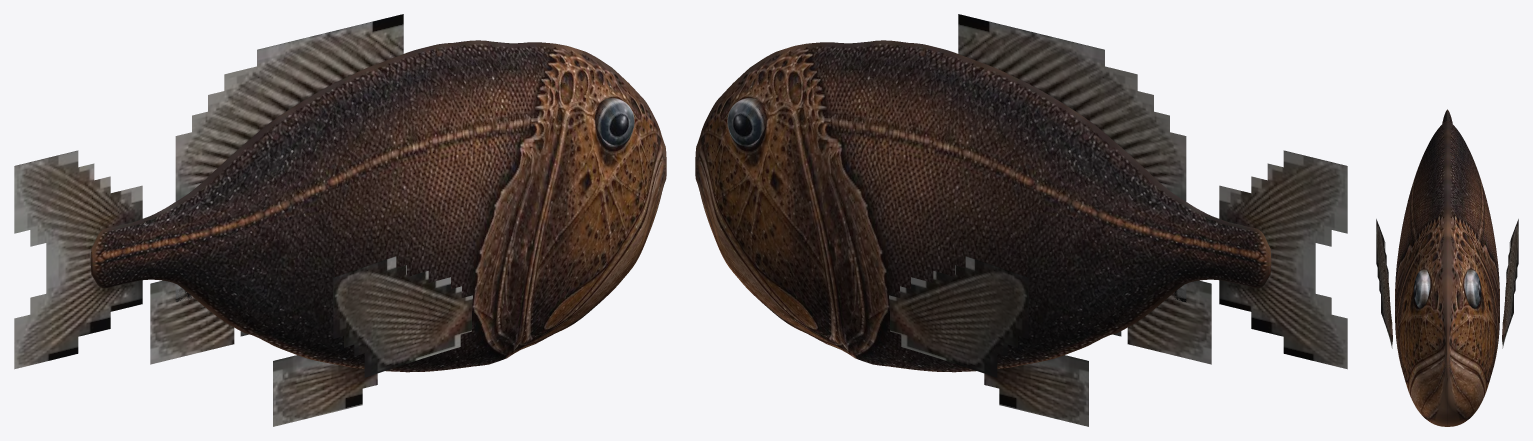
Rendered from real-anoplogaster_cornuta.glb.
The picture shows the model from 3 angles, left to right: view 1: azimuth 30°, elevation 25°; view 2: azimuth 150°, elevation 25°; view 3: azimuth 270°, elevation 25°; orthographic projection. The views are drawn at different scales.
Visible parts, largest first — view 1: anoplogaster_cornuta; view 2: anoplogaster_cornuta; view 3: anoplogaster_cornuta.
Part boxes in pixels (x1,y1,x2,y2): anoplogaster_cornuta: (14, 14, 666, 426); anoplogaster_cornuta: (695, 14, 1347, 426); anoplogaster_cornuta: (1376, 109, 1518, 426).
Bounding box in the file's own units: 0.1805 × 0.1008 × 0.0461.
1 material, 1 textured.
